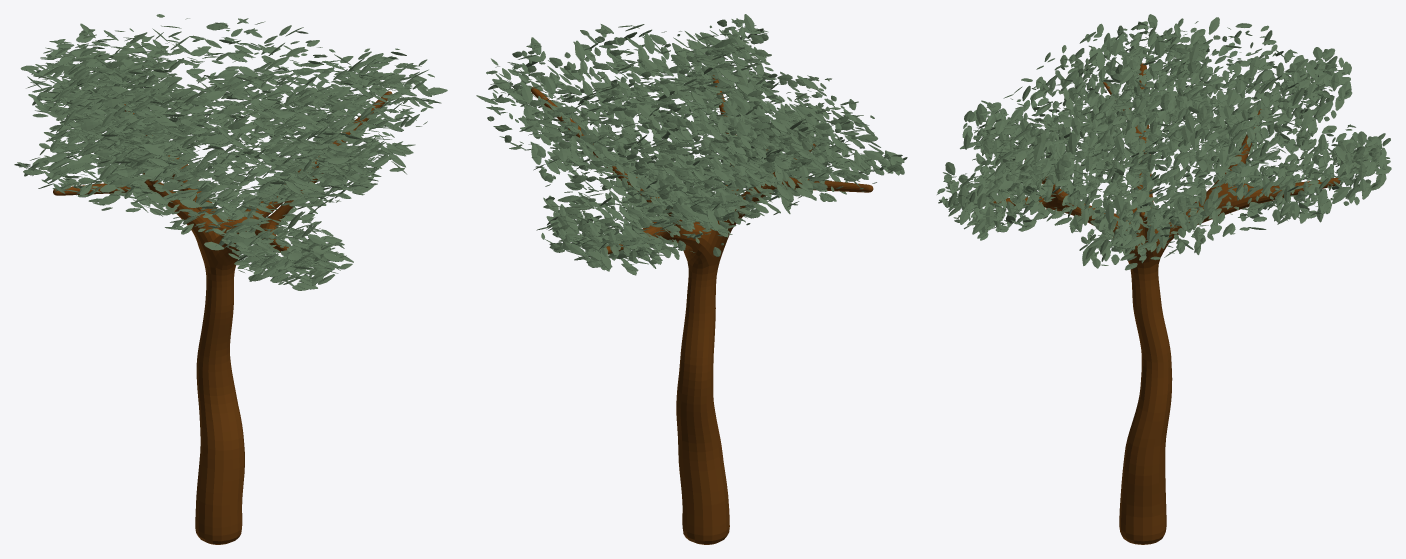
Rendered from Quebracho02.glb.
3 views of the same model, side by side, from view 1: azimuth 30°, elevation 25°; view 2: azimuth 150°, elevation 25°; view 3: azimuth 270°, elevation 25° (orthographic).
Parts seen in each view (by area): view 1: Vert; view 2: Vert; view 3: Vert.
Boxes of the visible parts, x1,y1,x2,y2 form: Vert: (53, 91, 392, 544); Vert: (531, 75, 873, 544); Vert: (993, 63, 1340, 544).
Bounding box in the file's own units: 17.17 × 19.41 × 16.2.
